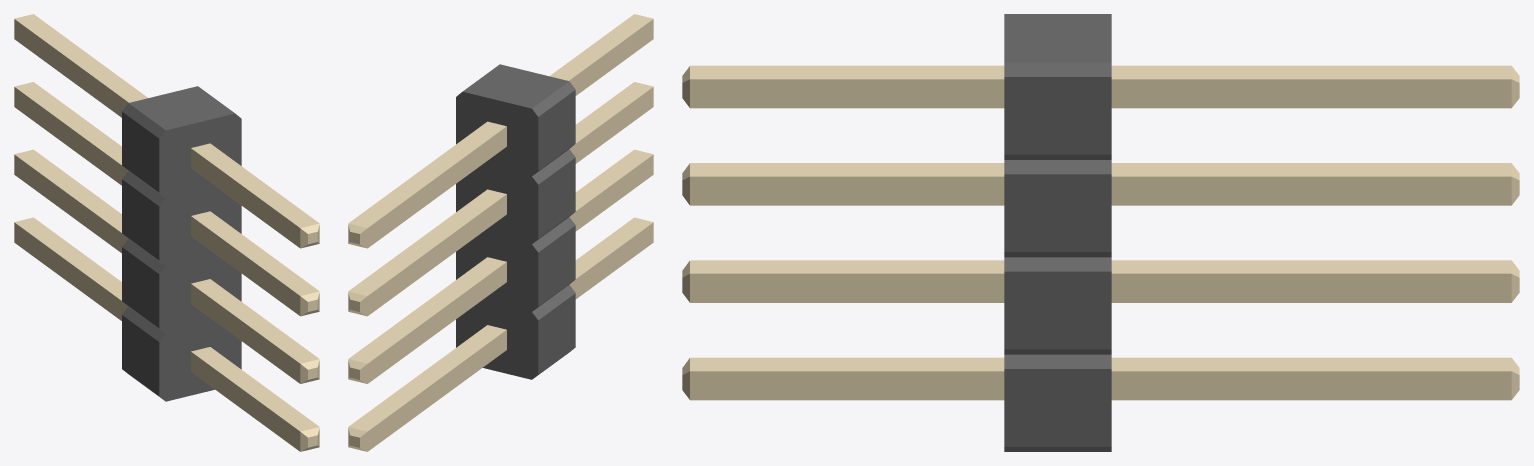
File: PinHeader_1x04_P1.00mm_Vertical.glb
3 views of the same model, side by side, from view 1: azimuth 30°, elevation 25°; view 2: azimuth 150°, elevation 25°; view 3: azimuth 270°, elevation 25° (orthographic). The views are drawn at different scales.
Parts seen in each view (by area): view 1: Shape_IndexedFaceSet.003, Shape_IndexedFaceSet.001, Shape_IndexedFaceSet.052, Shape_IndexedFaceSet.048, Shape_IndexedFaceSet.047, Shape_IndexedFaceSet.059, Shape_IndexedFaceSet.031, Shape_IndexedFaceSet.032, Shape_IndexedFaceSet.036, Shape_IndexedFaceSet.043, Shape_IndexedFaceSet.053, Shape_IndexedFaceSet.037 (+14 smaller); view 2: Shape_IndexedFaceSet.004, Shape_IndexedFaceSet.047, Shape_IndexedFaceSet.052, Shape_IndexedFaceSet.048, Shape_IndexedFaceSet.059, Shape_IndexedFaceSet.044, Shape_IndexedFaceSet.049, Shape_IndexedFaceSet.053, Shape_IndexedFaceSet.056, Shape_IndexedFaceSet.001, Shape_IndexedFaceSet.013, Shape_IndexedFaceSet.025 (+14 smaller); view 3: Shape_IndexedFaceSet.045, Shape_IndexedFaceSet.050, Shape_IndexedFaceSet.054, Shape_IndexedFaceSet.057, Shape_IndexedFaceSet.029, Shape_IndexedFaceSet.034, Shape_IndexedFaceSet.038, Shape_IndexedFaceSet.041, Shape_IndexedFaceSet.016, Shape_IndexedFaceSet.002, Shape_IndexedFaceSet.010, Shape_IndexedFaceSet.022 (+13 smaller).
Boxes of the visible parts, x1,y1,x2,y2 form: Shape_IndexedFaceSet.003: (159,113,241,401); Shape_IndexedFaceSet.001: (129,86,234,130); Shape_IndexedFaceSet.052: (14,19,128,117); Shape_IndexedFaceSet.048: (14,222,128,320); Shape_IndexedFaceSet.047: (14,154,127,253); Shape_IndexedFaceSet.059: (14,87,127,185); Shape_IndexedFaceSet.031: (191,284,300,383); Shape_IndexedFaceSet.032: (191,352,300,451); Shape_IndexedFaceSet.036: (191,148,300,247); Shape_IndexedFaceSet.043: (191,216,300,315); Shape_IndexedFaceSet.053: (14,14,147,102); Shape_IndexedFaceSet.037: (191,143,319,227); Shape_IndexedFaceSet.004: (456,91,538,379); Shape_IndexedFaceSet.047: (367,262,506,383); Shape_IndexedFaceSet.052: (367,126,506,247); Shape_IndexedFaceSet.048: (367,330,506,451); Shape_IndexedFaceSet.059: (367,194,506,315); Shape_IndexedFaceSet.044: (349,257,506,363); Shape_IndexedFaceSet.049: (348,325,506,431); Shape_IndexedFaceSet.053: (348,121,506,227); Shape_IndexedFaceSet.056: (348,189,506,295); Shape_IndexedFaceSet.001: (463,64,568,108); Shape_IndexedFaceSet.013: (538,157,575,238); Shape_IndexedFaceSet.025: (538,293,575,374); Shape_IndexedFaceSet.045: (1111,273,1511,302); Shape_IndexedFaceSet.050: (1111,371,1511,400); Shape_IndexedFaceSet.054: (1111,79,1511,108); Shape_IndexedFaceSet.057: (1111,176,1511,205); Shape_IndexedFaceSet.029: (690,273,1004,302); Shape_IndexedFaceSet.034: (690,371,1004,400); Shape_IndexedFaceSet.038: (690,79,1004,108); Shape_IndexedFaceSet.041: (690,176,1004,205); Shape_IndexedFaceSet.016: (1004,271,1111,349); Shape_IndexedFaceSet.002: (1004,77,1111,154); Shape_IndexedFaceSet.010: (1004,174,1111,251); Shape_IndexedFaceSet.022: (1004,369,1111,446).
Size of the model in its own units: 0.5 by 1.58 by 3.07.
